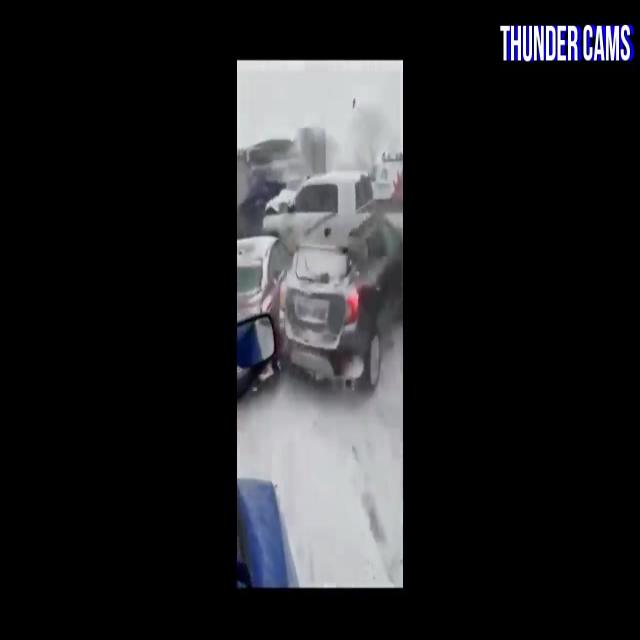accident: (244, 185, 379, 382)
